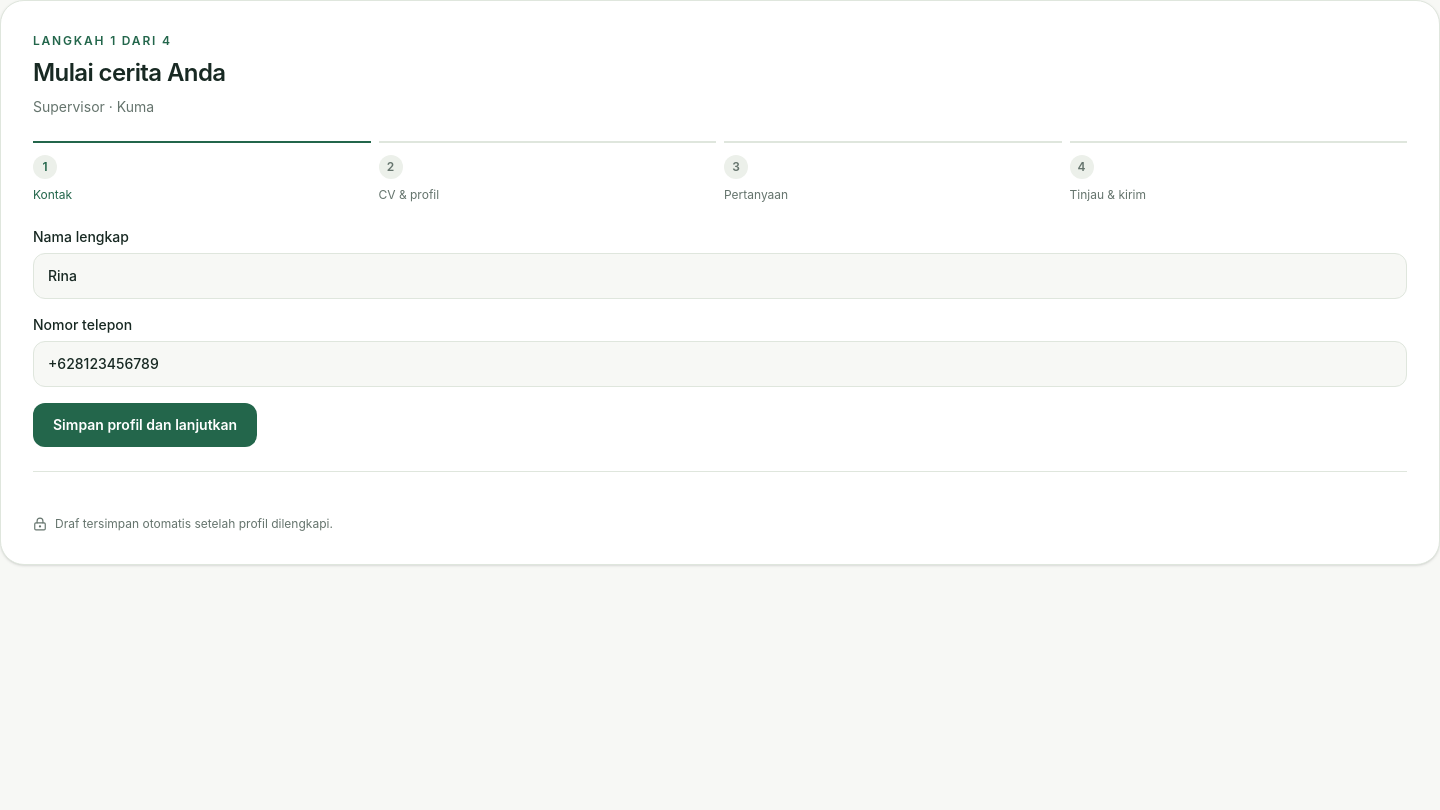
empty document library offers direct upload and blocks a missing required CV
Click the button "Simpan profil dan lanjutkan": (145, 425) [33, 403, 257, 447]
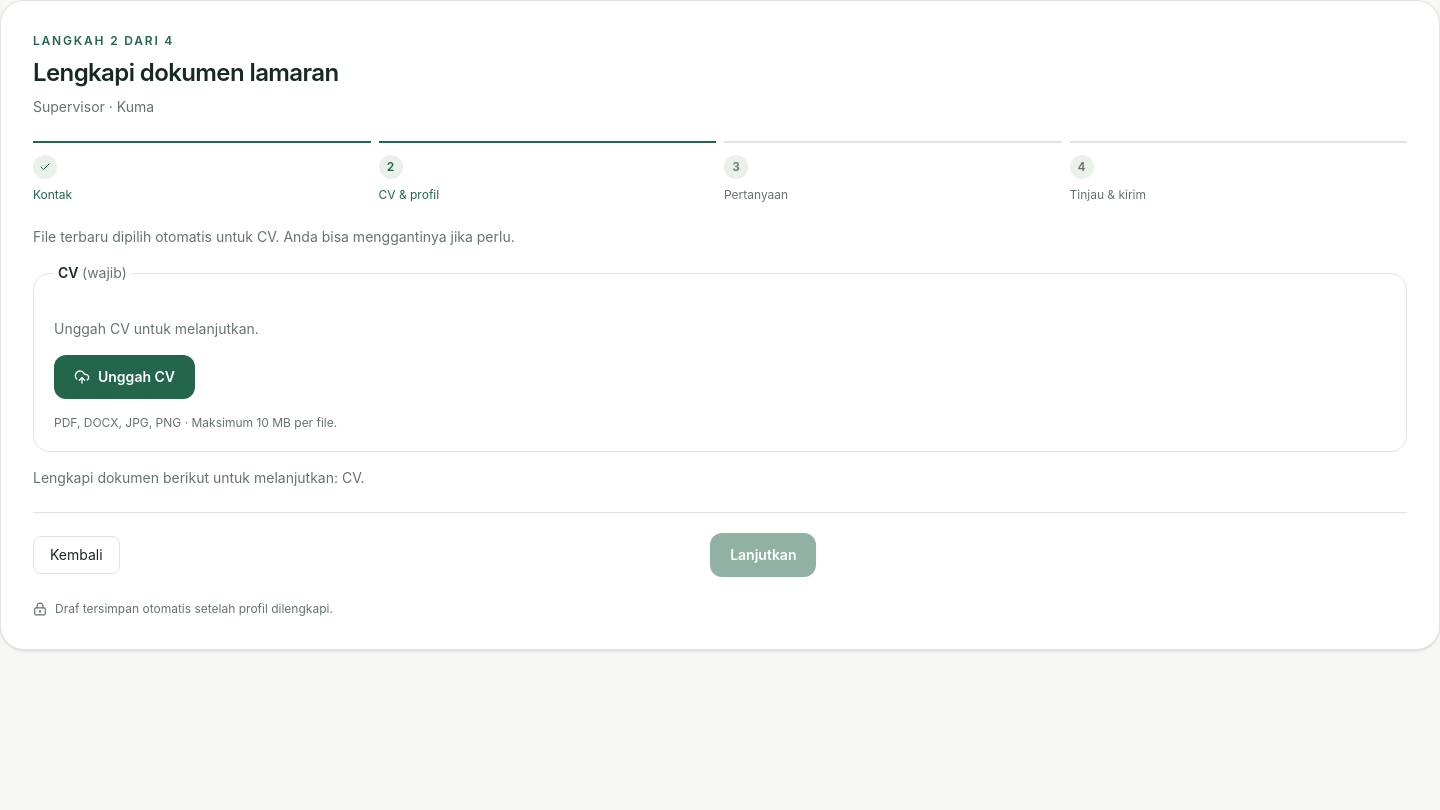
Result: the heading "Lengkapi dokumen lamaran" is shown at [33, 58, 338, 87]
Result: the text "Unggah CV untuk melanjutkan." is shown at [54, 320, 259, 337]
Result: the button "Lanjutkan" is disabled at [710, 533, 816, 577]
